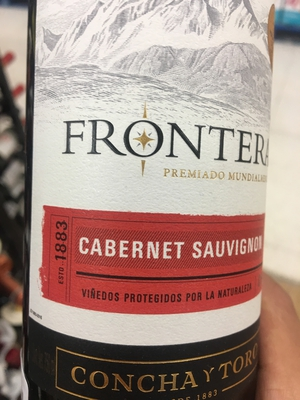frontera cabernet sauvignon: (24, 7, 279, 400)
